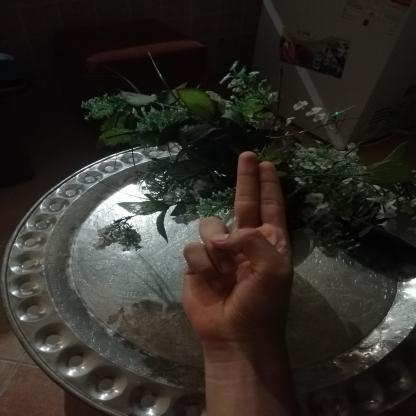TA: (169, 138, 306, 352)
